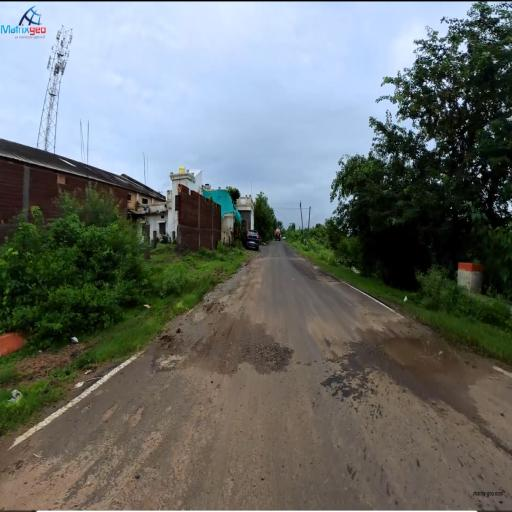pothole: (239, 316, 293, 391), (388, 317, 432, 403)
ravelling: (81, 408, 227, 498)
